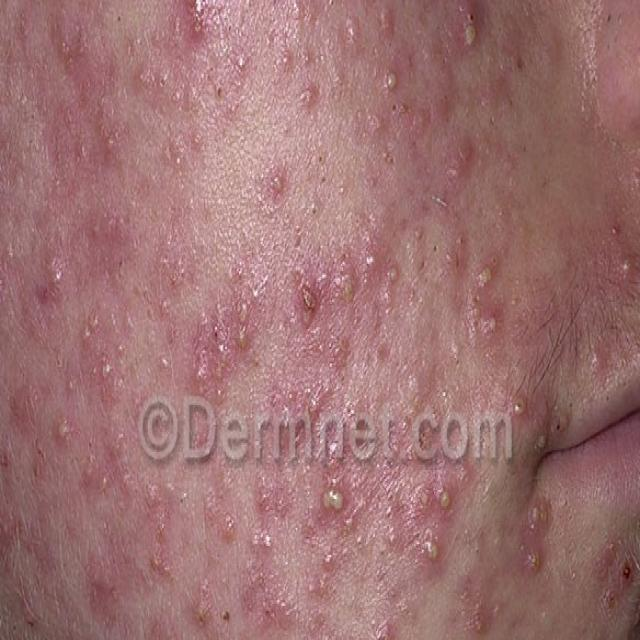Acne: (238, 35, 564, 254), (0, 36, 87, 331), (112, 43, 230, 238), (244, 424, 374, 578), (381, 304, 640, 376), (20, 465, 114, 625), (495, 466, 574, 636), (147, 314, 232, 459), (269, 235, 369, 342), (417, 398, 463, 623), (589, 173, 640, 298)
